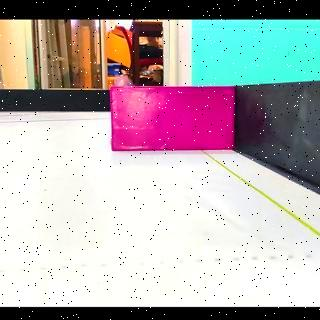xparking: (112, 86, 232, 150)
